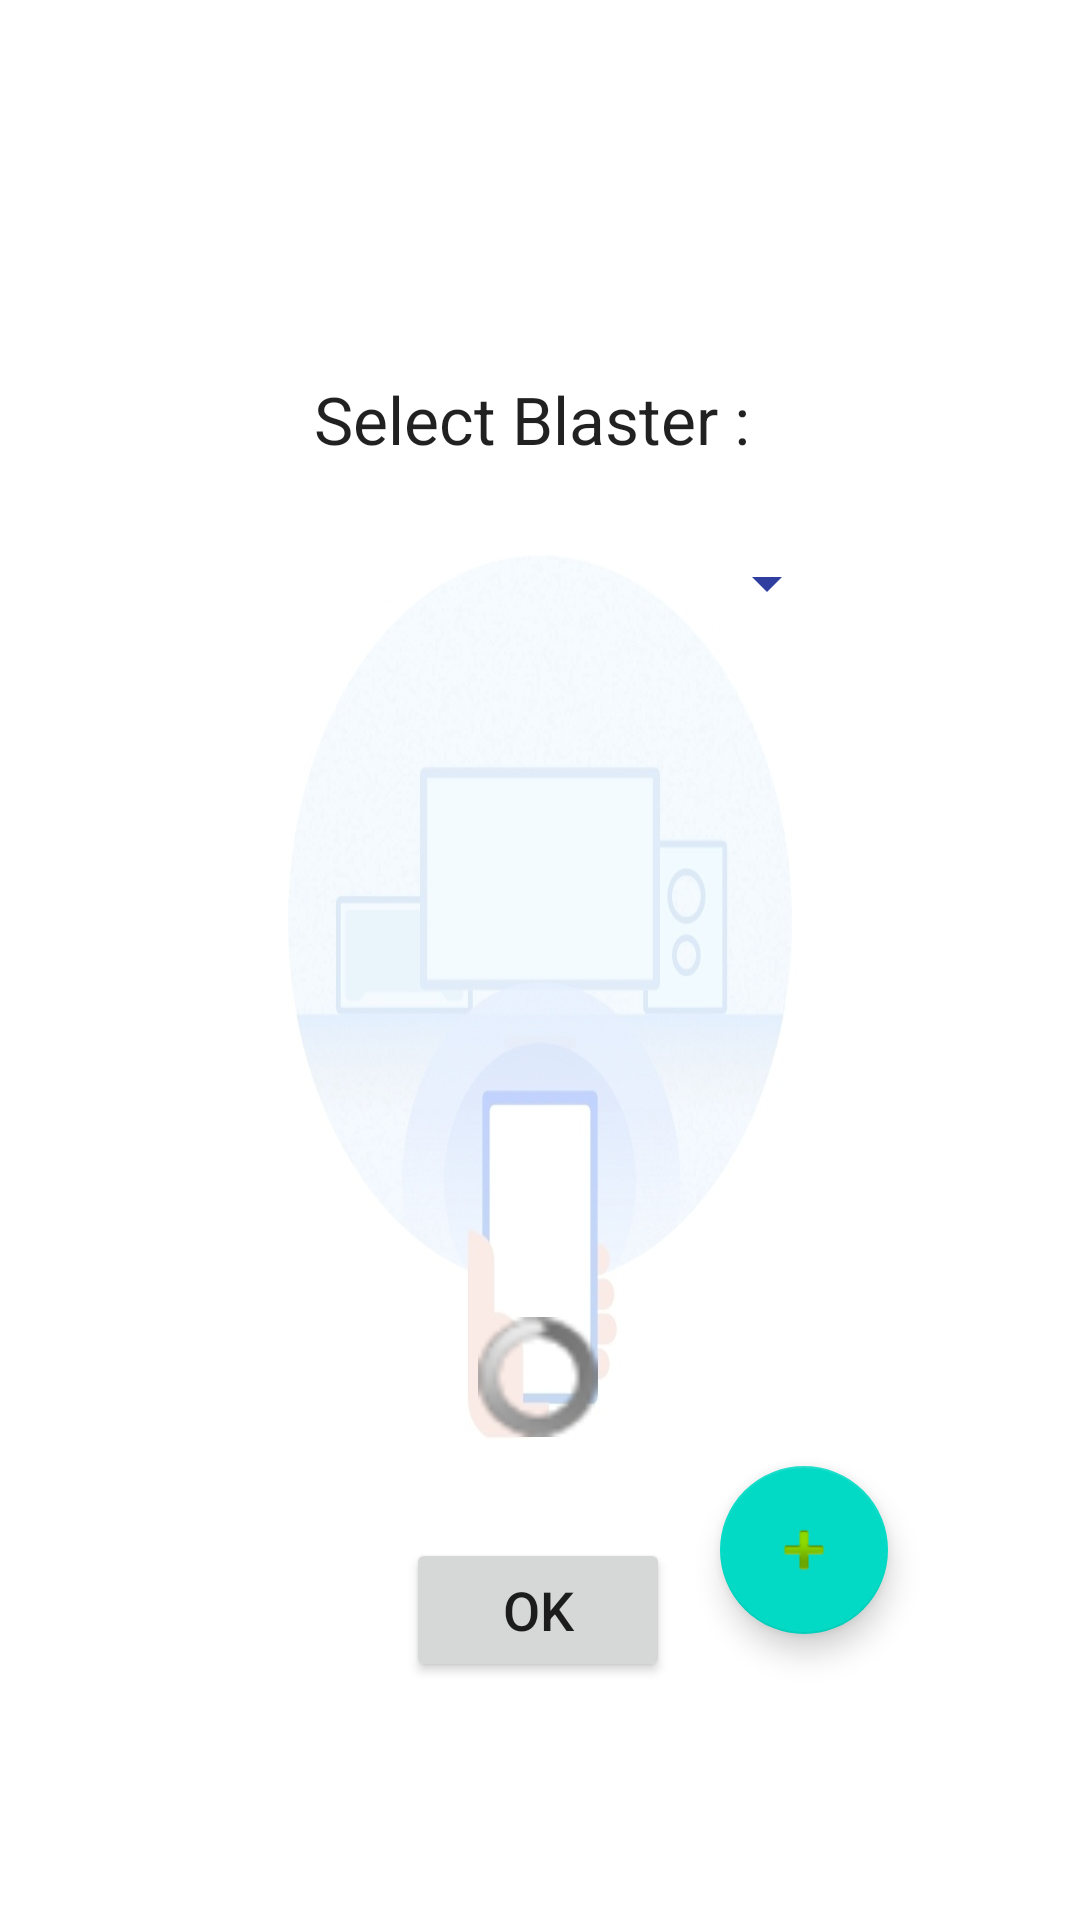

Point at icon controls on the screen. Image size 1080x1920, points as point (x, y).
add: point (804, 1550)
